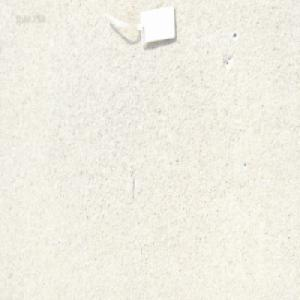LuggageTag: (101, 3, 177, 50)
